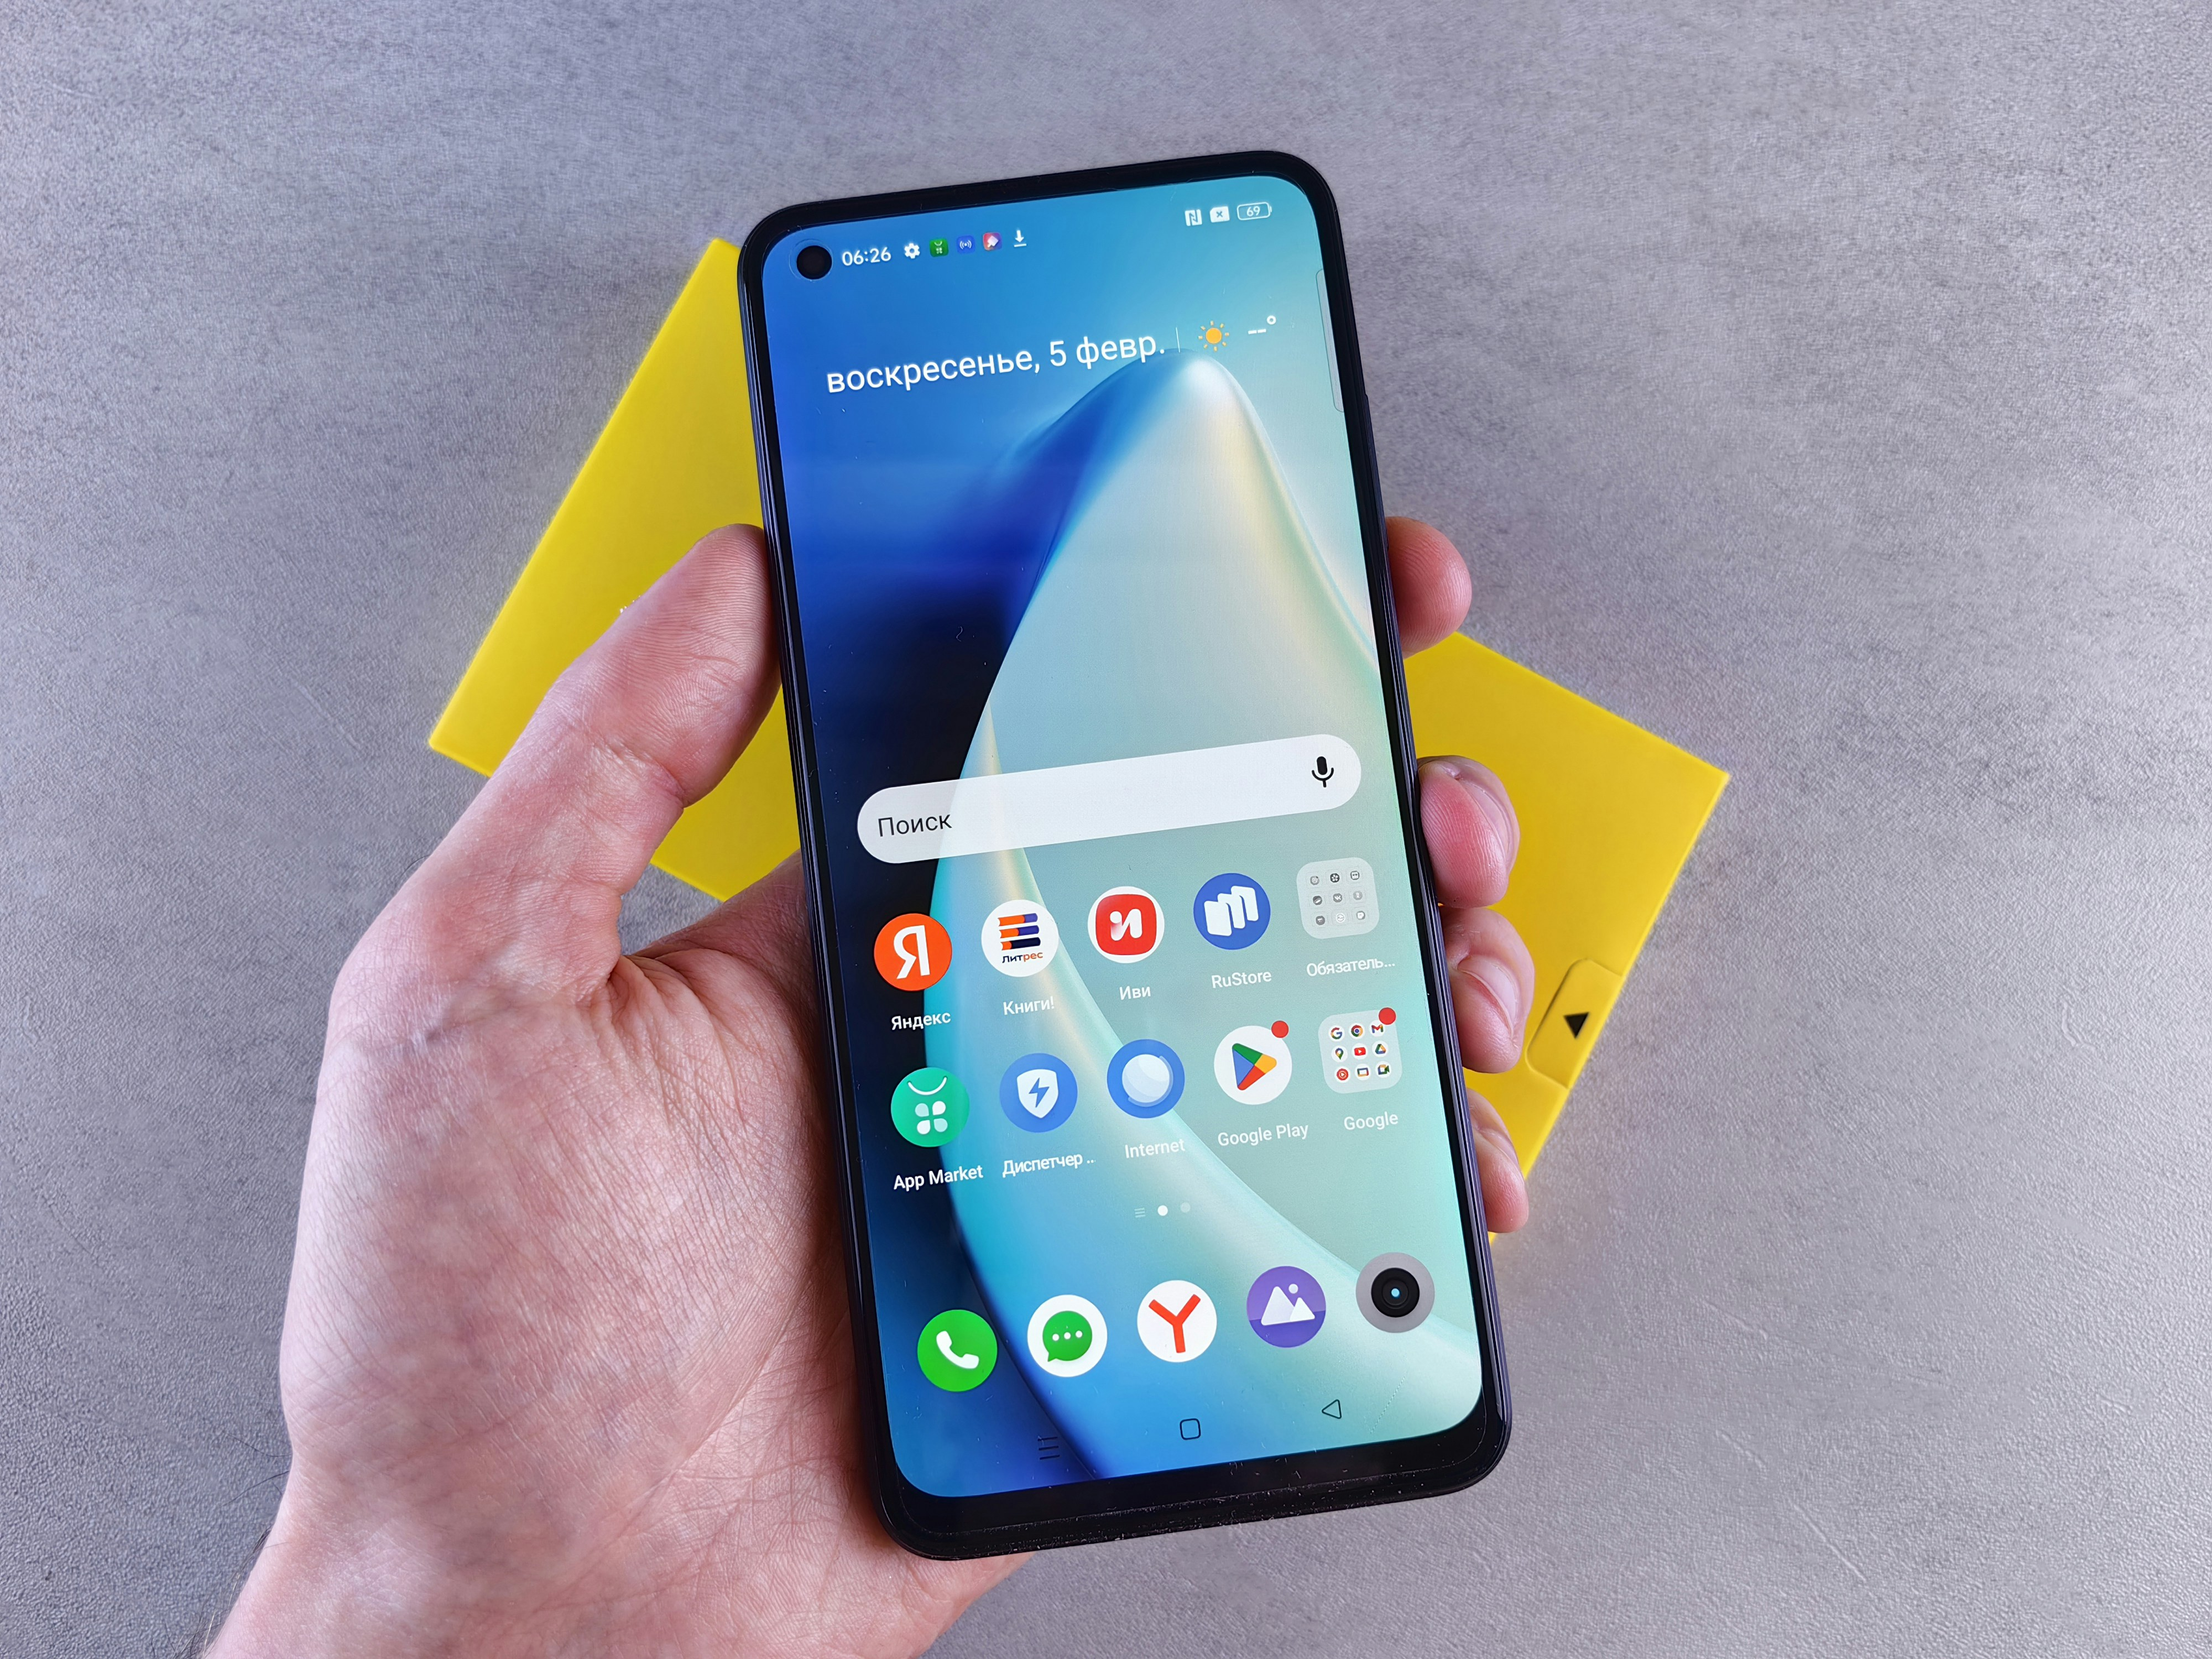p6: (728, 139, 1559, 1565)
